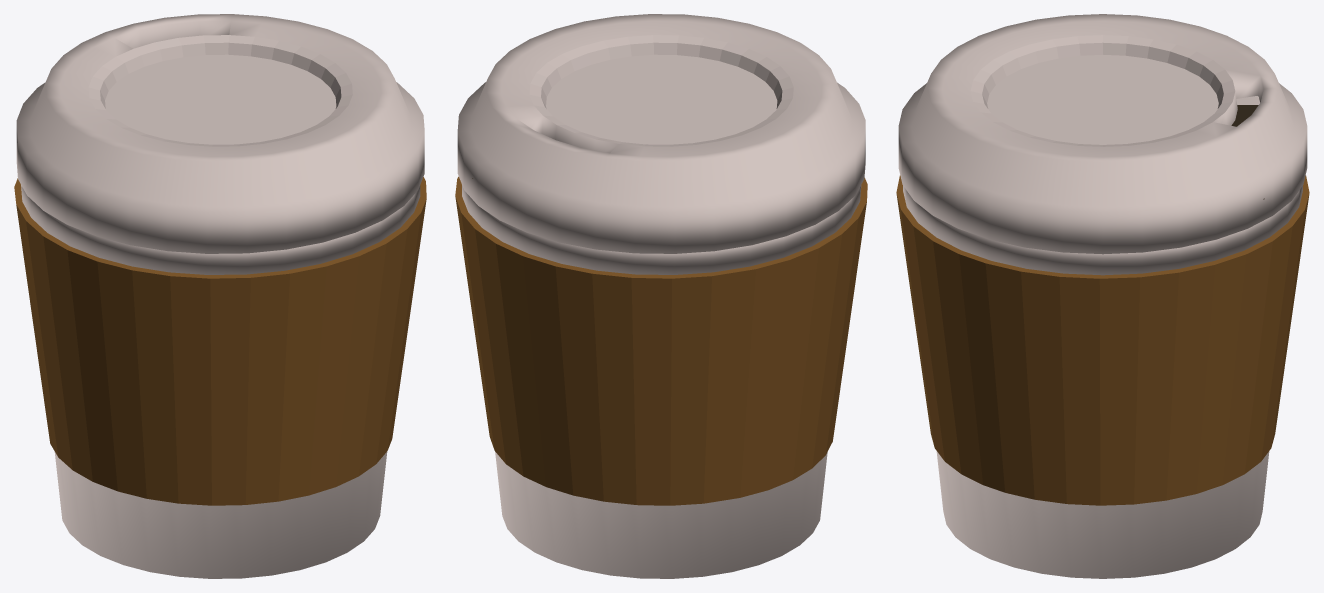
The model's file is clean coffee cup.fbx.
3 renders of one model, left to right at view 1: azimuth 30°, elevation 25°; view 2: azimuth 150°, elevation 25°; view 3: azimuth 270°, elevation 25°, orthographic.
Visible parts, largest first — view 1: Cylinder; view 2: Cylinder; view 3: Cylinder.
Boxes of the visible parts, box(x1,y1,x2,y2) form: Cylinder: box(14, 14, 426, 578); Cylinder: box(455, 14, 867, 578); Cylinder: box(896, 14, 1309, 578).
Size of the model in its own units: 207 by 234 by 207.
